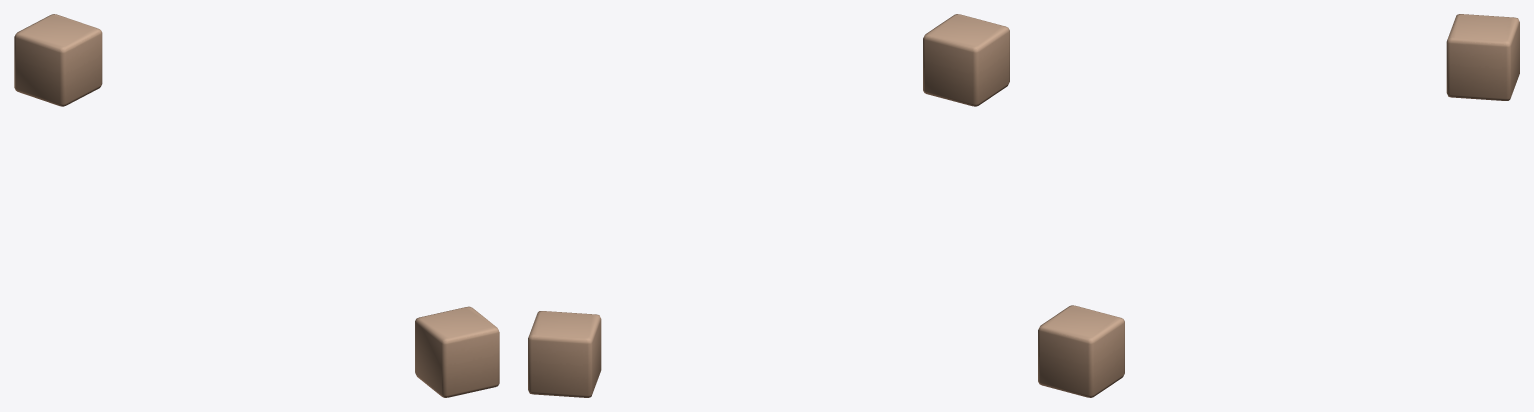
File: Props.fbx
The picture shows the model from 3 angles, left to right: view 1: azimuth 30°, elevation 25°; view 2: azimuth 150°, elevation 25°; view 3: azimuth 330°, elevation 25°; orthographic projection.
Parts seen in each view (by area): view 1: Box1-6, Box1-6 (1); view 2: Box1-6 (1), Box1-6; view 3: Box1-6 (1), Box1-6.
Boxes of the visible parts, x1,y1,x2,y2 form: Box1-6: [14, 14, 102, 106]; Box1-6 (1): [415, 306, 499, 397]; Box1-6 (1): [923, 14, 1009, 106]; Box1-6: [528, 311, 601, 397]; Box1-6 (1): [1038, 305, 1124, 397]; Box1-6: [1446, 14, 1519, 100].
Size of the model in its own units: 2.44 by 1.95 by 26.23.
